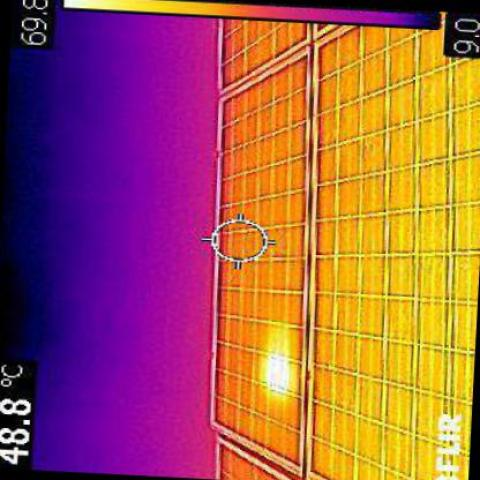fault: (262, 341, 290, 388)
